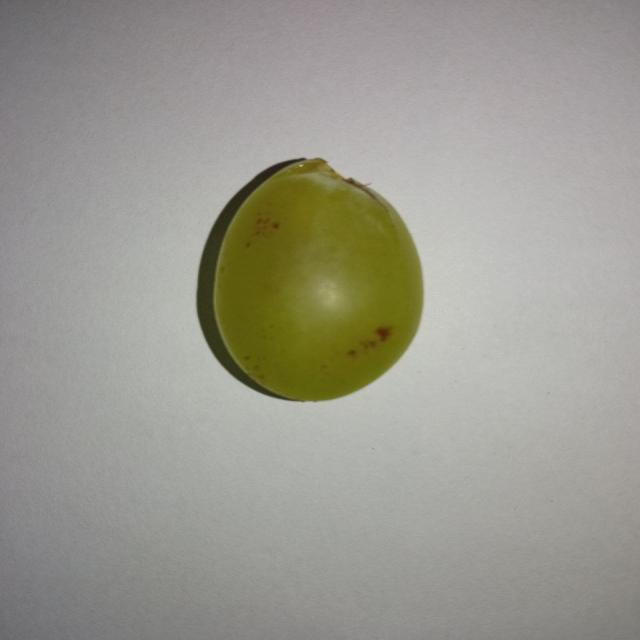fresh_grape: (218, 164, 420, 396)
